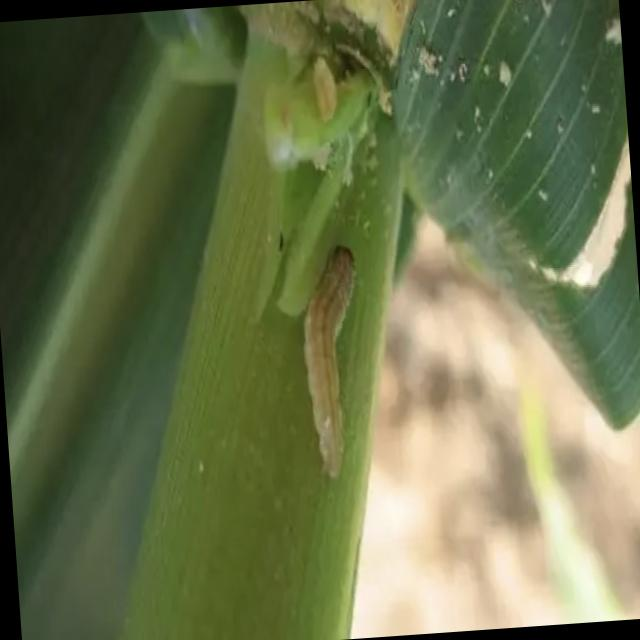pest: (302, 247, 370, 473)
